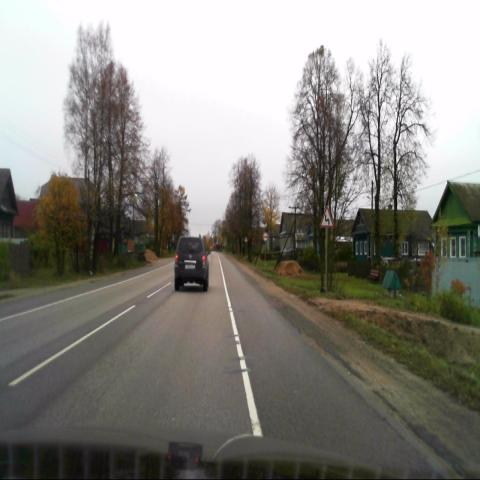1_12_2: (320, 206, 333, 228)
